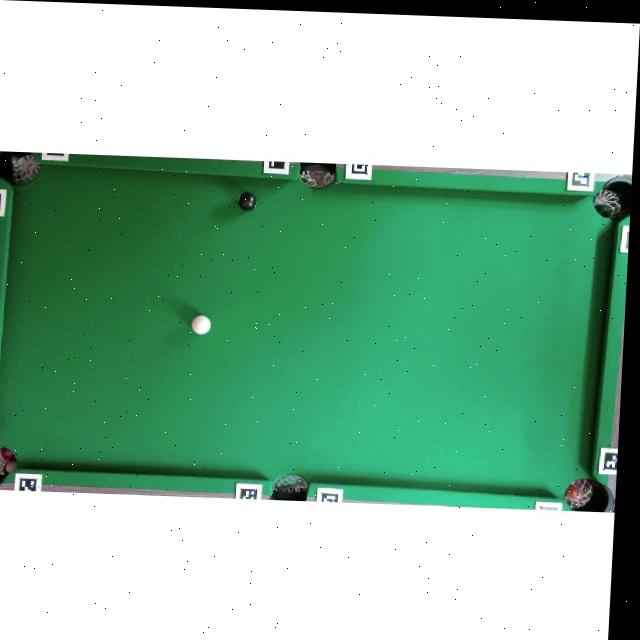cue ball: (190, 314, 212, 335)
other: (238, 191, 258, 211)
